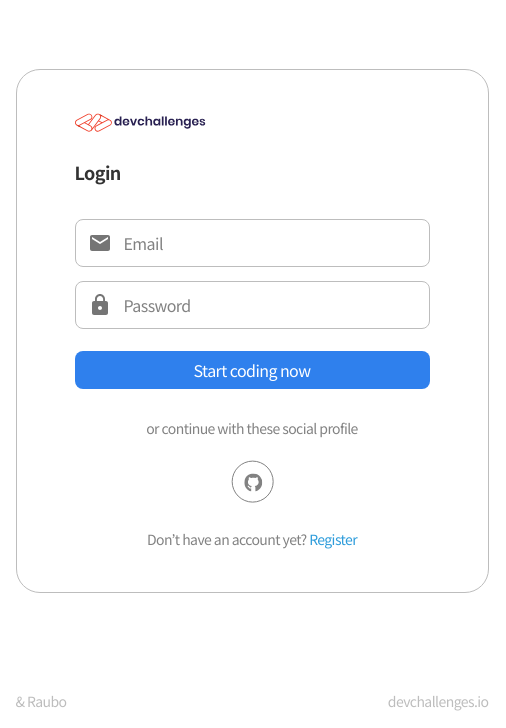
Test: Auth app › Login › user can navigate to signup page
Click the link with test id "login__link" at (333, 539), box 309,529 -> 357,549
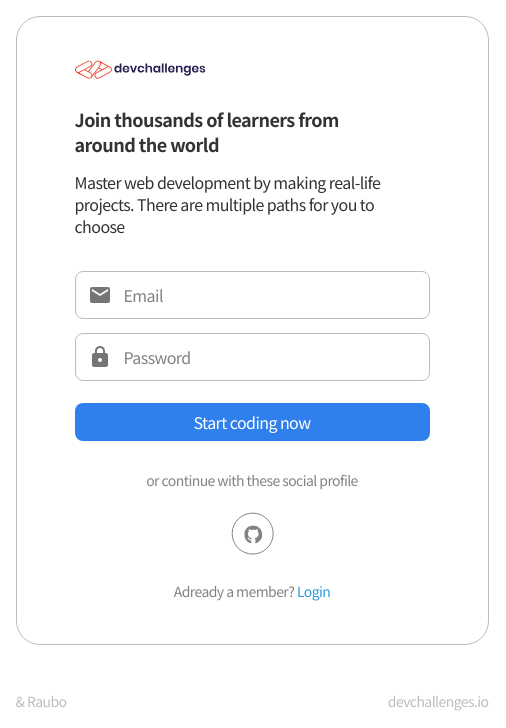
expect the text "or continue with these social profile" is shown: met, box 146,470 -> 358,490
expect the heading "Join thousands of learners from around the world" is shown: met, box 74,106 -> 339,158
